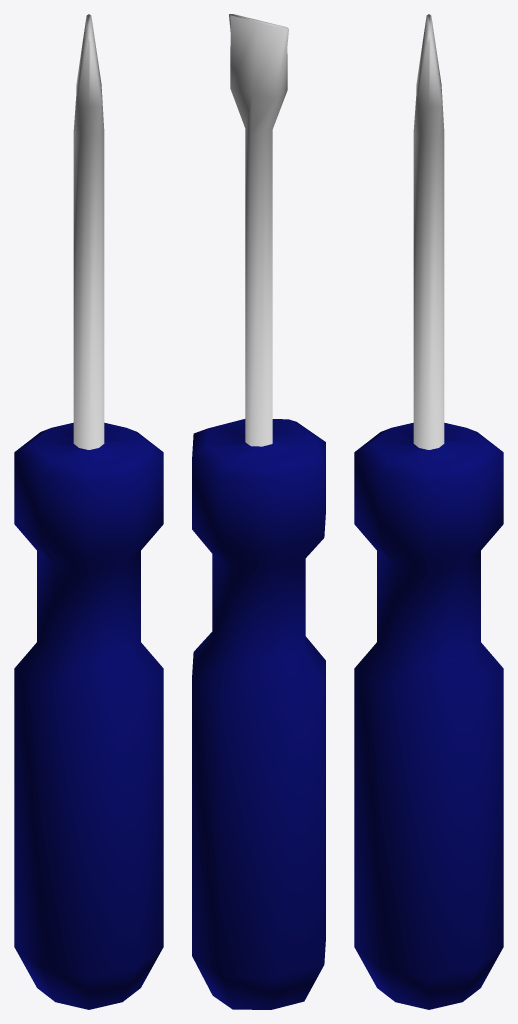
File: Flathead1.obj
3 views of the same model, side by side, from view 1: azimuth 90°, elevation 25°; view 2: azimuth 150°, elevation 25°; view 3: azimuth 270°, elevation 25° (orthographic).
Parts seen in each view (by area): view 1: polySurface4 polySurface2 toolsFBXASC046screwdrivers; view 2: polySurface4 polySurface2 toolsFBXASC046screwdrivers; view 3: polySurface4 polySurface2 toolsFBXASC046screwdrivers.
Part boxes in pixels (x1=…): polySurface4 polySurface2 toolsFBXASC046screwdrivers: x1=14, y1=14, x2=163, y2=1009; polySurface4 polySurface2 toolsFBXASC046screwdrivers: x1=192, y1=14, x2=325, y2=1009; polySurface4 polySurface2 toolsFBXASC046screwdrivers: x1=354, y1=14, x2=503, y2=1009.
Size of the model in its own units: 7.83 by 55.43 by 7.83.
